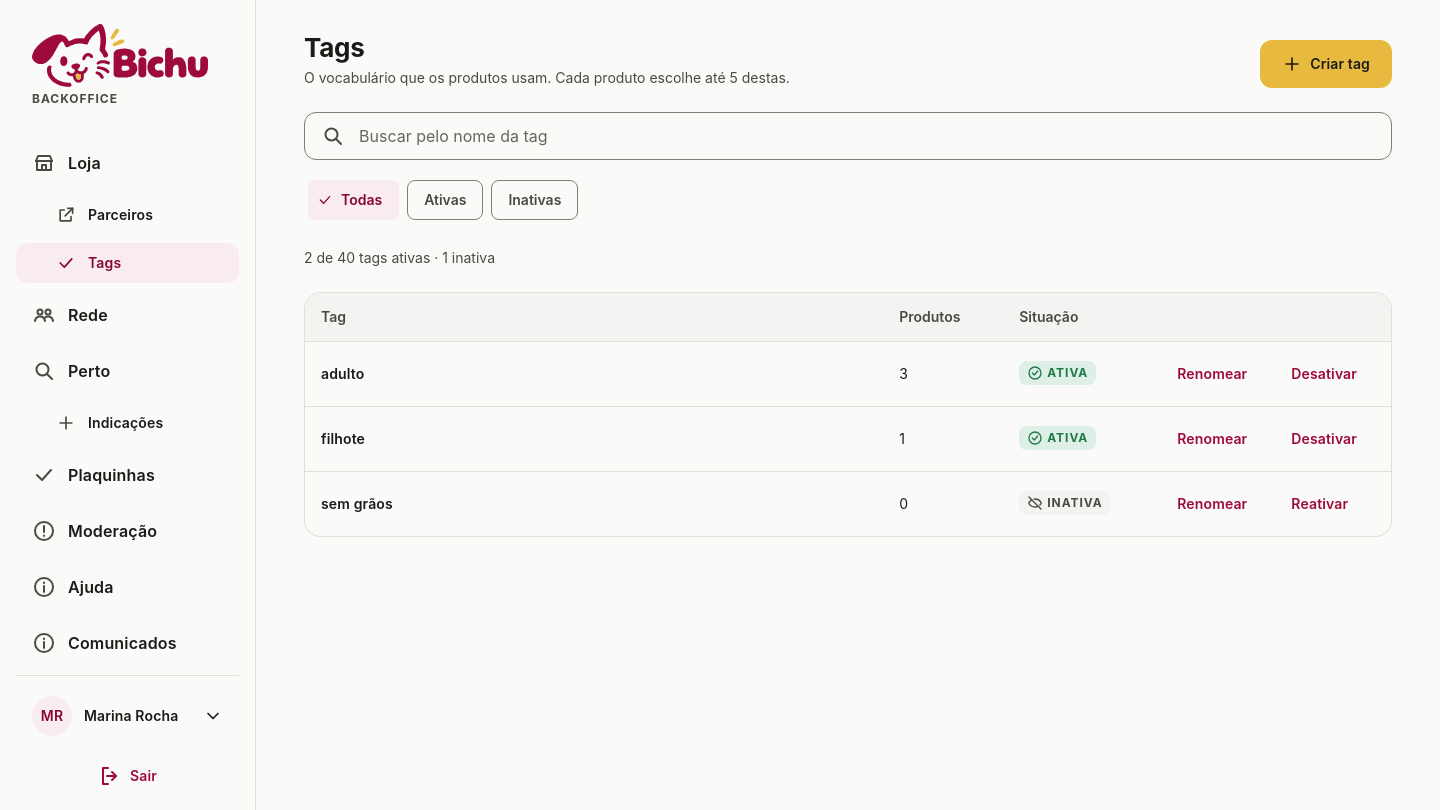
6 · Tags › conta ativas e inativas, desativa e renomeia pelo contrato
Check: the text "2 de 40 tags ativas · 1 inativa" is shown, box [304, 249, 495, 266]
Click the button with aria-label "Desativar a tag adulto" at (1324, 374), box [1273, 354, 1375, 394]
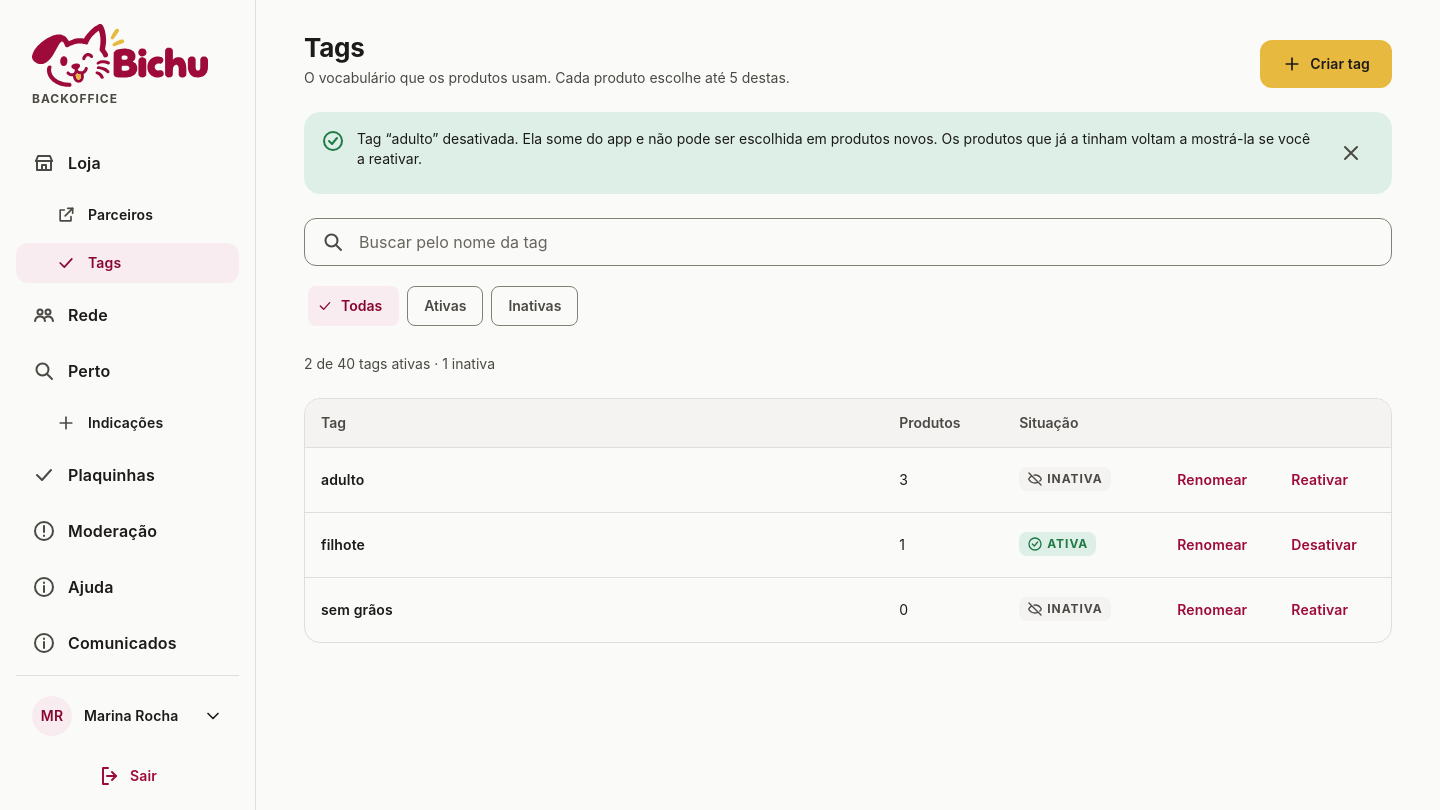
Check: the text "Tag “adulto” desativada. Ela some do app" is shown, box [357, 130, 1310, 167]
Click the button with aria-label "Renomear a tag filhote" at (1212, 545), box [1159, 525, 1265, 565]
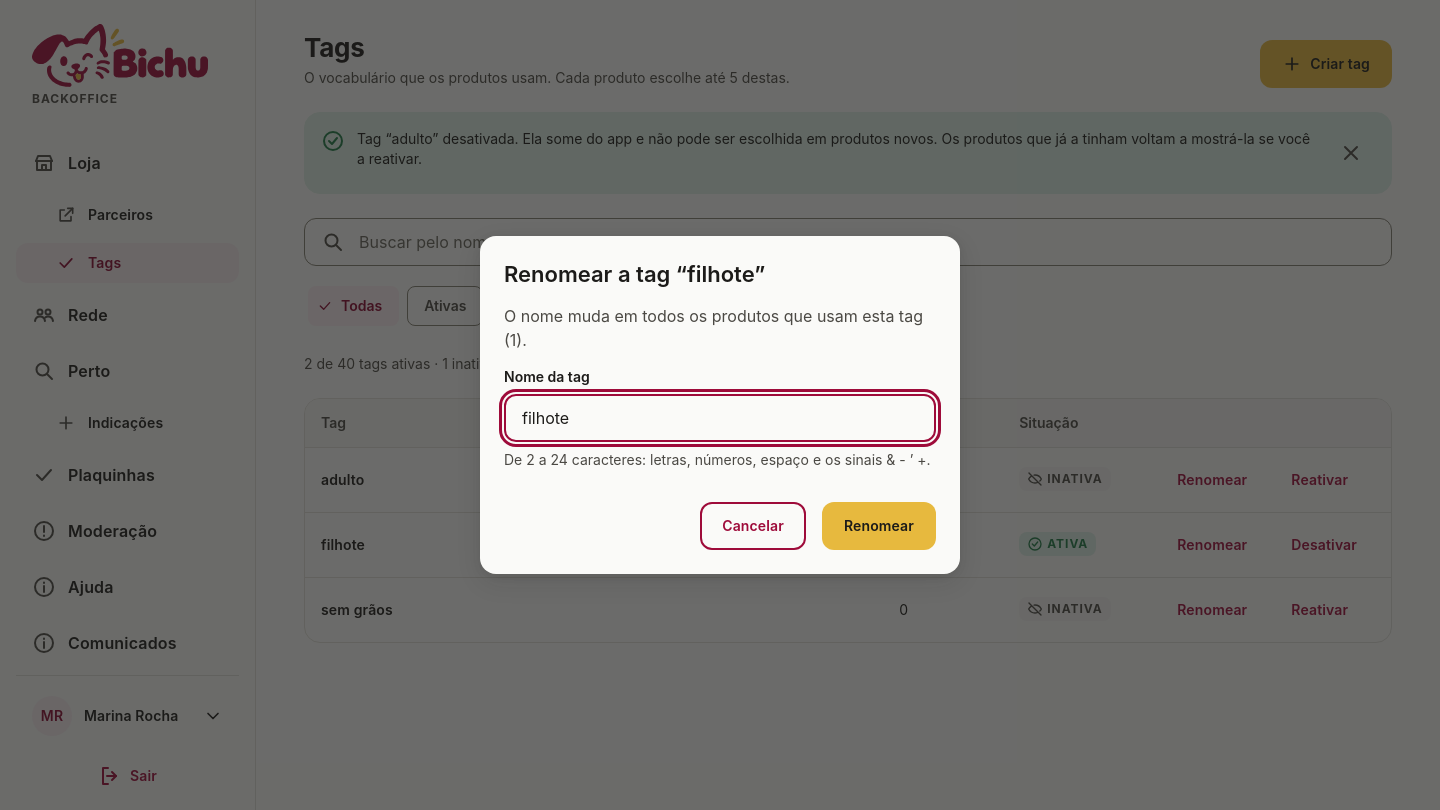
Replace the text in the field labelled "Nome da tag" with "x" at (720, 418), box [504, 394, 936, 442]
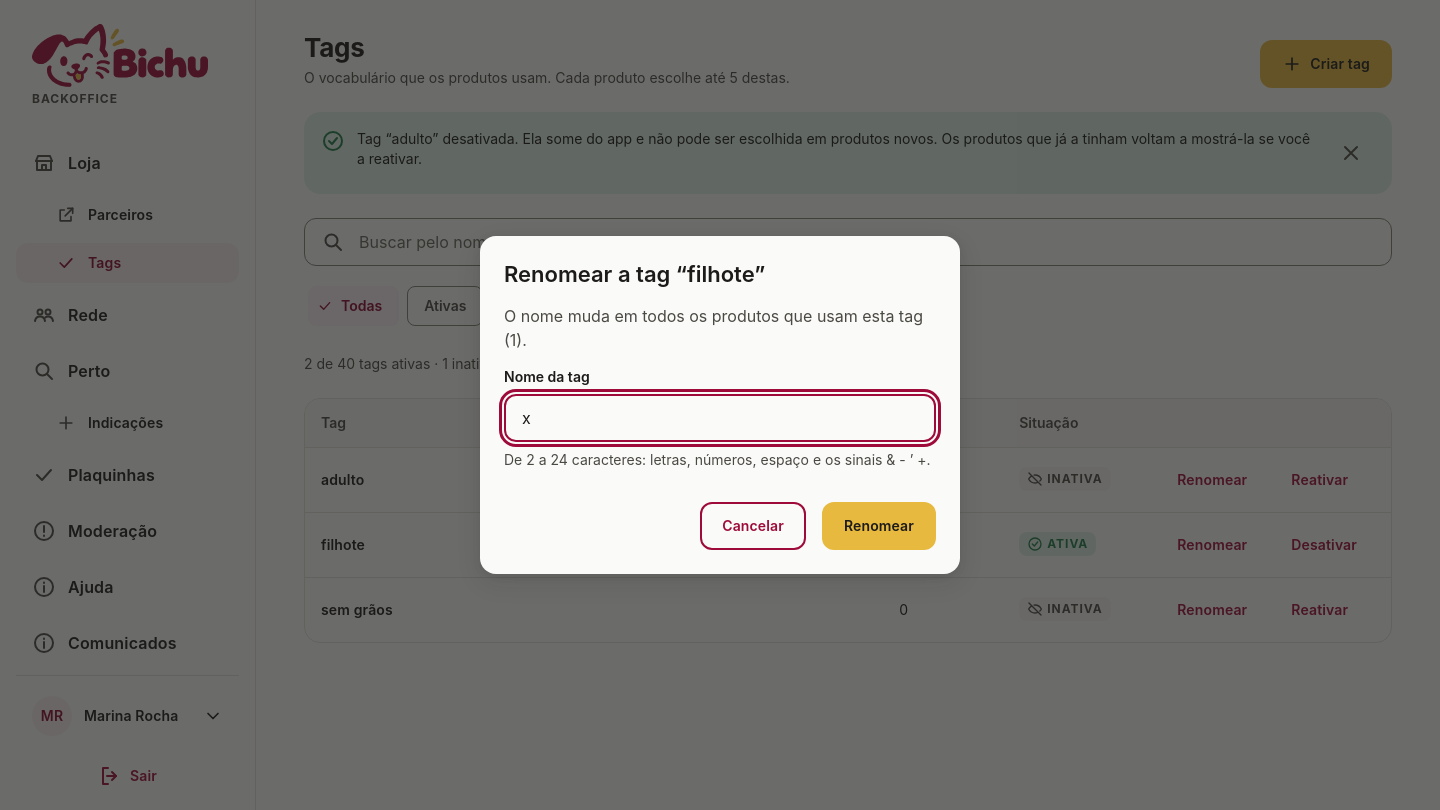
Click the button "Renomear" at (879, 526), box [822, 502, 936, 550]
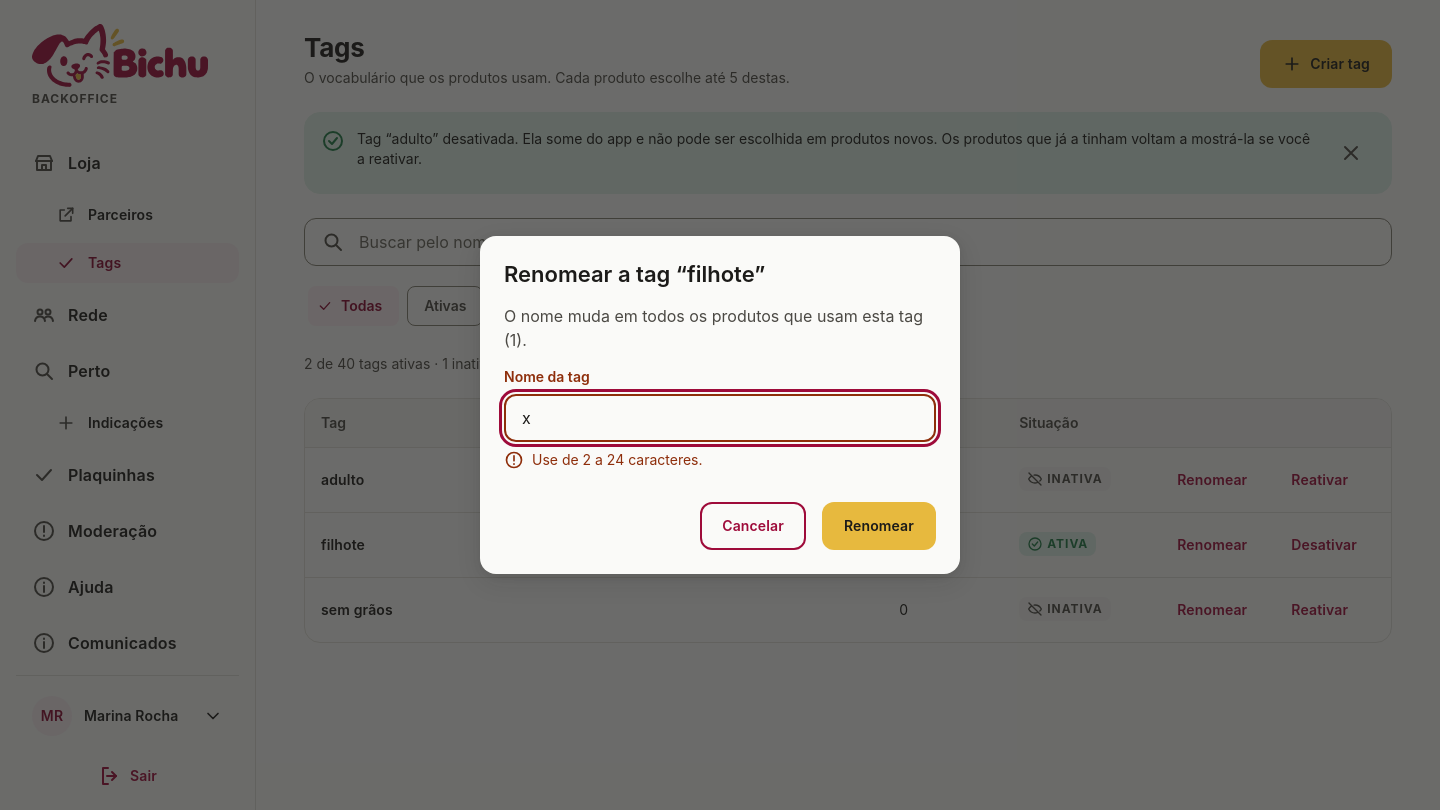
Replace the text in the field labelled "Nome da tag" with "Filhotes" at (720, 418), box [504, 394, 936, 442]
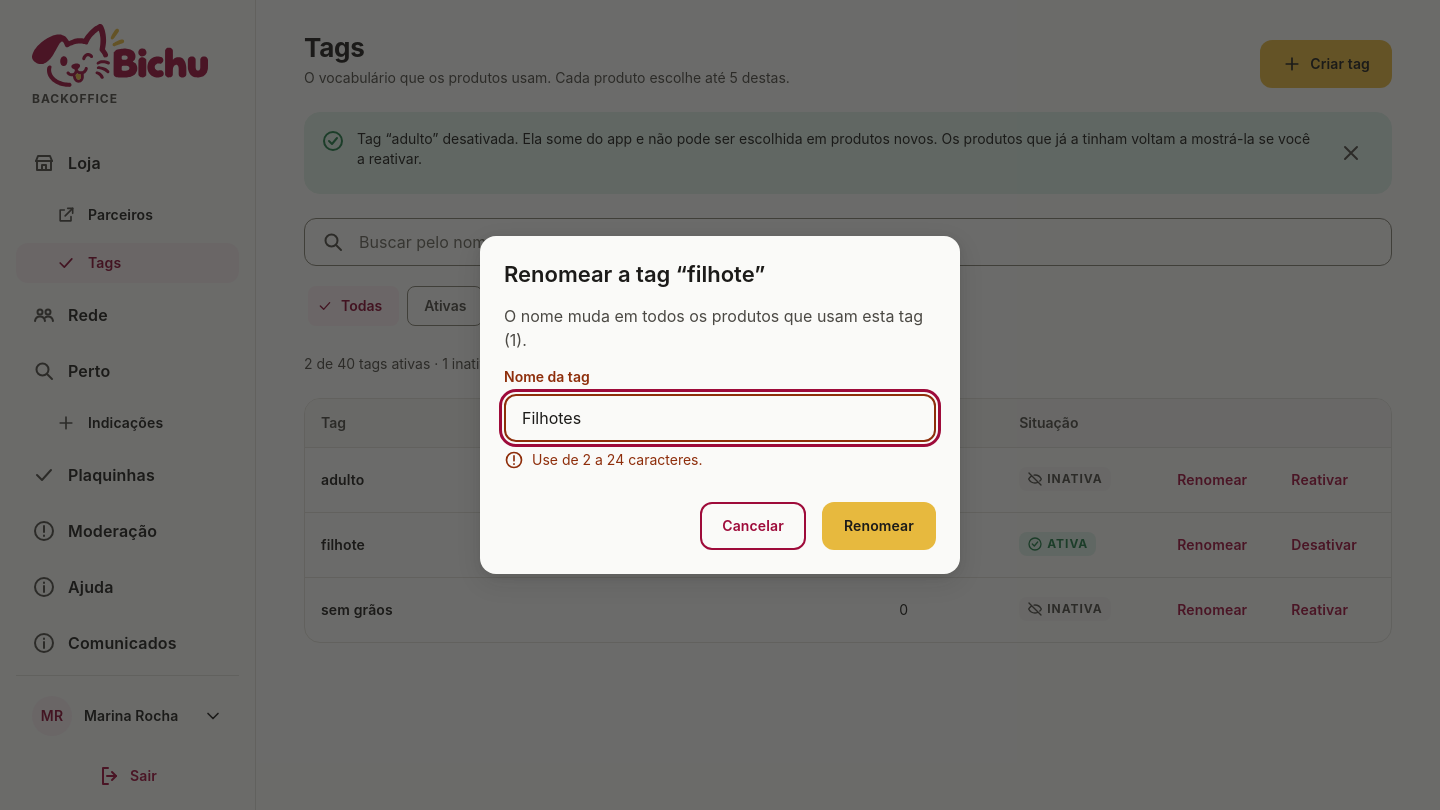
Click the button "Renomear" at (879, 526), box [822, 502, 936, 550]
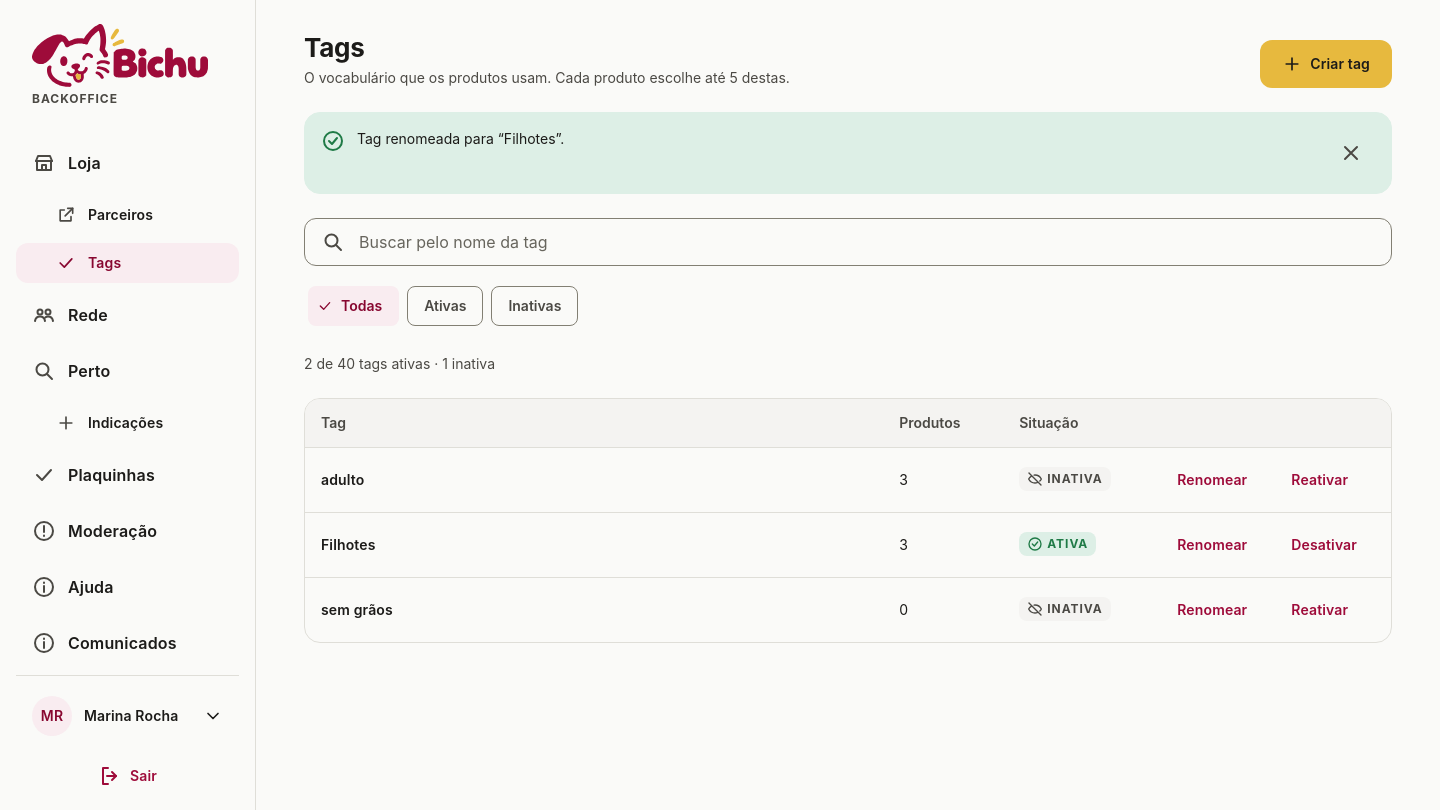
Check: the dialog is gone
